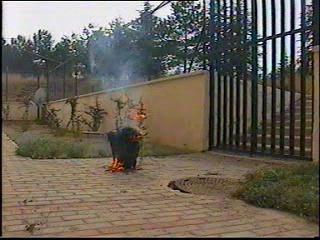smoke: (97, 43, 139, 85)
